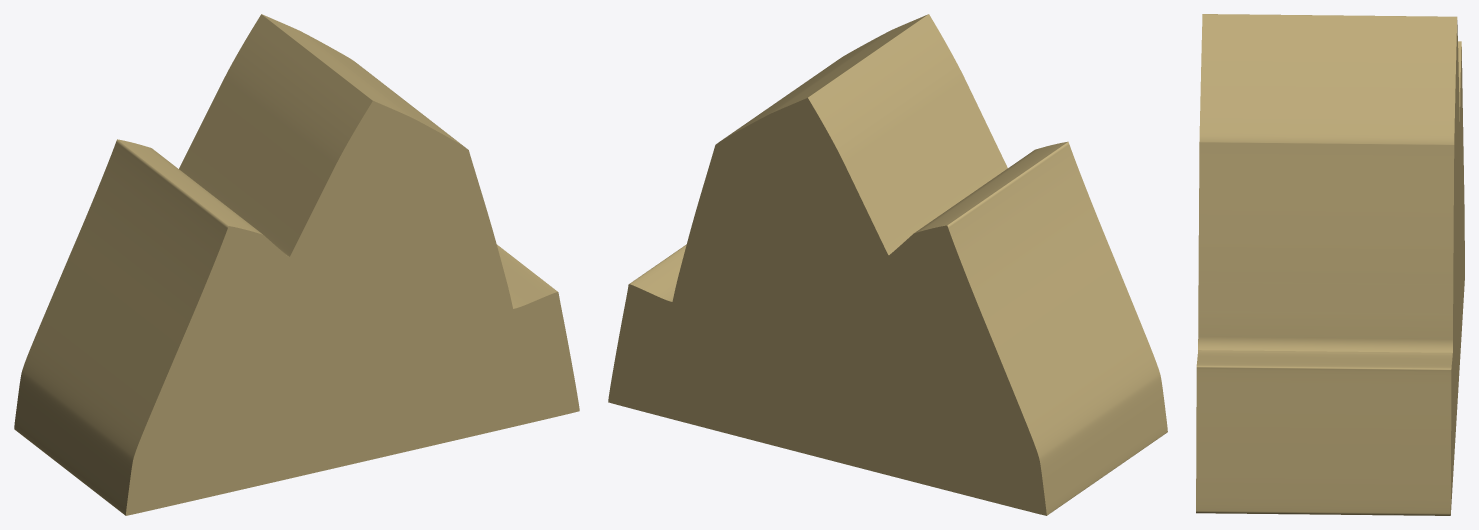
The model's file is mountain.glb.
The picture shows the model from 3 angles, left to right: view 1: azimuth 30°, elevation 25°; view 2: azimuth 150°, elevation 25°; view 3: azimuth 270°, elevation 25°; orthographic projection. The views are drawn at different scales.
Visible parts, largest first — view 1: Curve; view 2: Curve; view 3: Curve.
Part boxes in pixels (<box>): Curve: <box>14,14,579,515</box>; Curve: <box>608,14,1167,515</box>; Curve: <box>1196,14,1464,515</box>.
Size of the model in its own units: 2.4 by 1.82 by 1.13.
